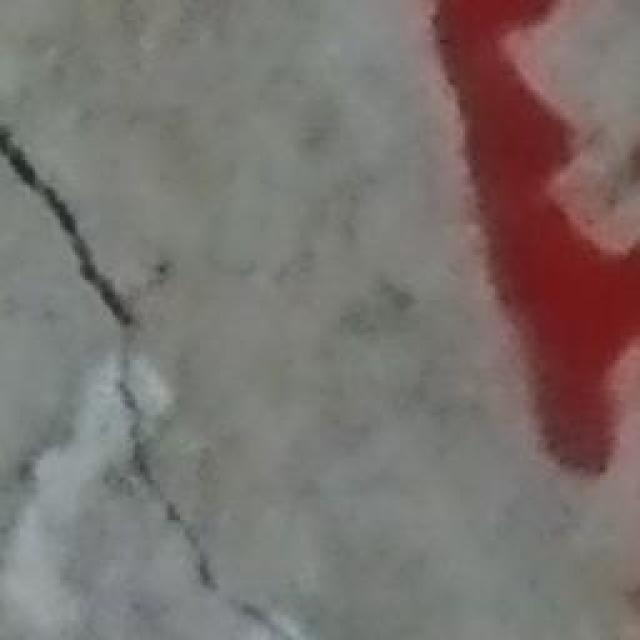Diagonal: (0, 106, 349, 640)
